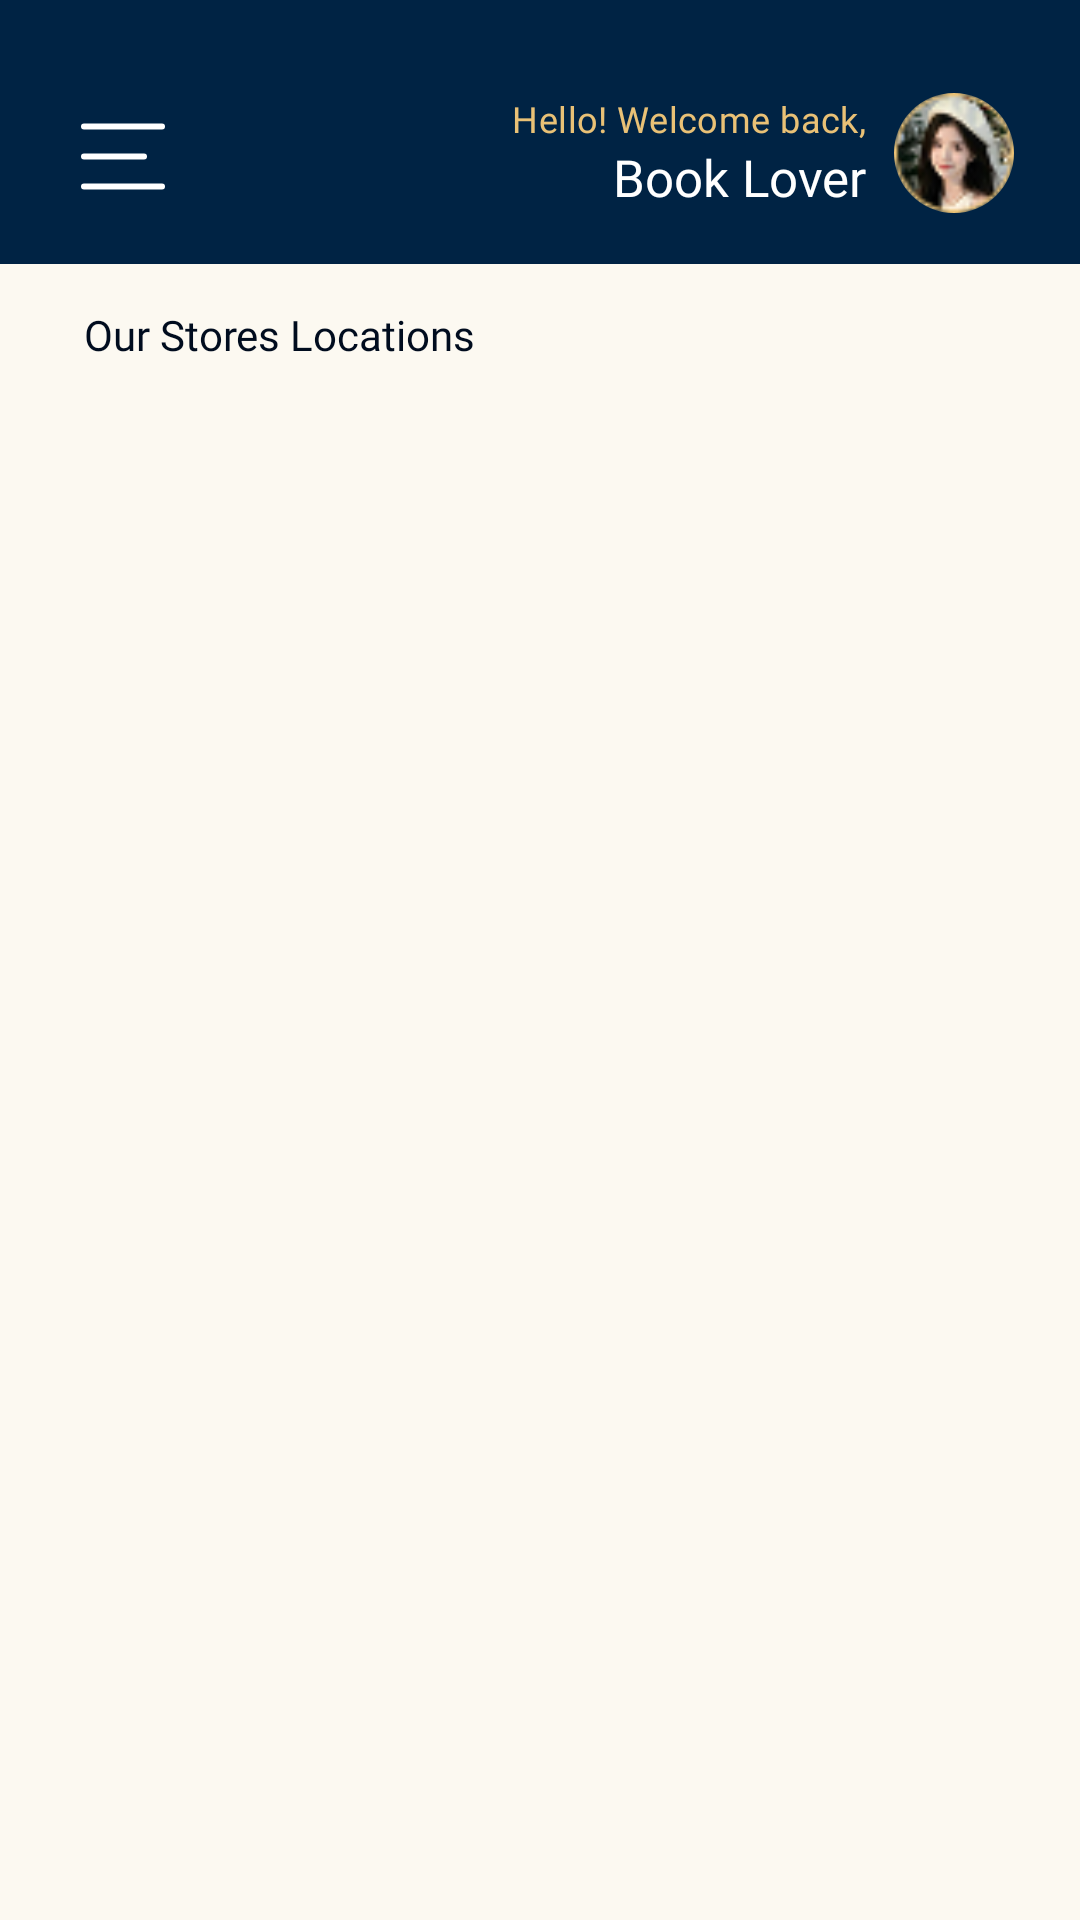

Point at icon controls on the screen. Image size 1080 x 1920, points as (x=x, y=y).
Open menu: (x=123, y=156)
Profile: (x=954, y=153)
